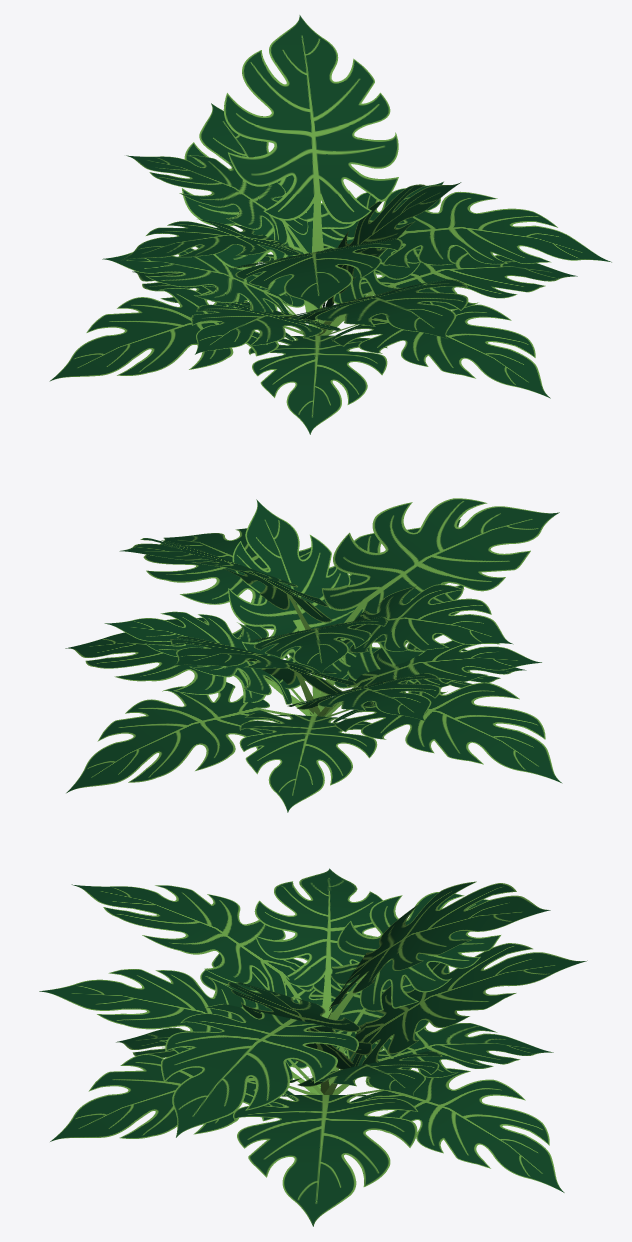
File: Palm5.fbx
3 renders of one model, top to bottom at view 1: azimuth 30°, elevation 25°; view 2: azimuth 150°, elevation 25°; view 3: azimuth 270°, elevation 25°, orthographic. The views are drawn at different scales.
Parts seen in each view (by area): view 1: Palm5; view 2: Palm5; view 3: Palm5.
Part boxes in pixels (bbox=[...]): Palm5: bbox=[49, 15, 611, 434]; Palm5: bbox=[65, 498, 562, 812]; Palm5: bbox=[39, 868, 587, 1226].
Bounding box in the file's own units: 688 × 322 × 651.
